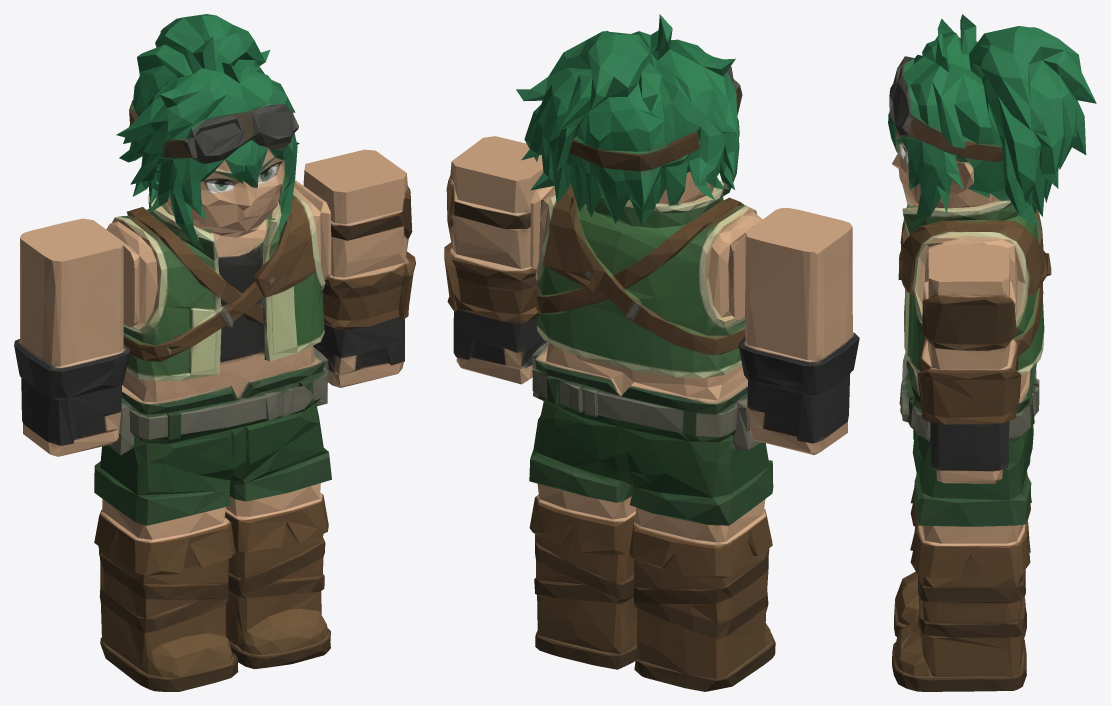
File: Sora_R6_Auto.fbx
3 renders of one model, left to right at view 1: azimuth 30°, elevation 25°; view 2: azimuth 150°, elevation 25°; view 3: azimuth 270°, elevation 25°, orthographic. The views are drawn at different scales.
Visible parts, largest first — view 1: Torso, Head, RightLeg, RightArm, LeftLeg, LeftArm; view 2: Torso, Head, RightLeg, RightArm, LeftLeg, LeftArm; view 3: Head, LeftLeg, LeftArm, Torso, RightLeg.
Part boxes in pixels (x1,y1,x2,y2): Torso: (106, 180, 331, 466); Head: (116, 14, 299, 237); RightLeg: (94, 445, 240, 691); RightArm: (14, 218, 130, 456); LeftLeg: (225, 420, 331, 669); LeftArm: (303, 149, 415, 387); Torso: (530, 184, 762, 467); Head: (516, 14, 742, 224); RightLeg: (620, 442, 775, 691); RightArm: (738, 208, 859, 454); LeftLeg: (529, 419, 636, 669); LeftArm: (444, 136, 547, 384); Head: (888, 14, 1096, 226); LeftLeg: (892, 425, 1033, 691); LeftArm: (917, 245, 1021, 483); Torso: (898, 186, 1051, 468); RightLeg: (894, 441, 1031, 636).
Size of the model in its own units: 3.78 by 5.97 by 1.79.
Materials: 1 (1 with a texture image).
